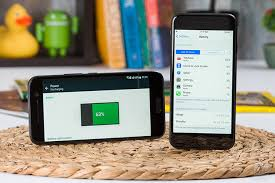htc: (163, 8, 238, 151)
